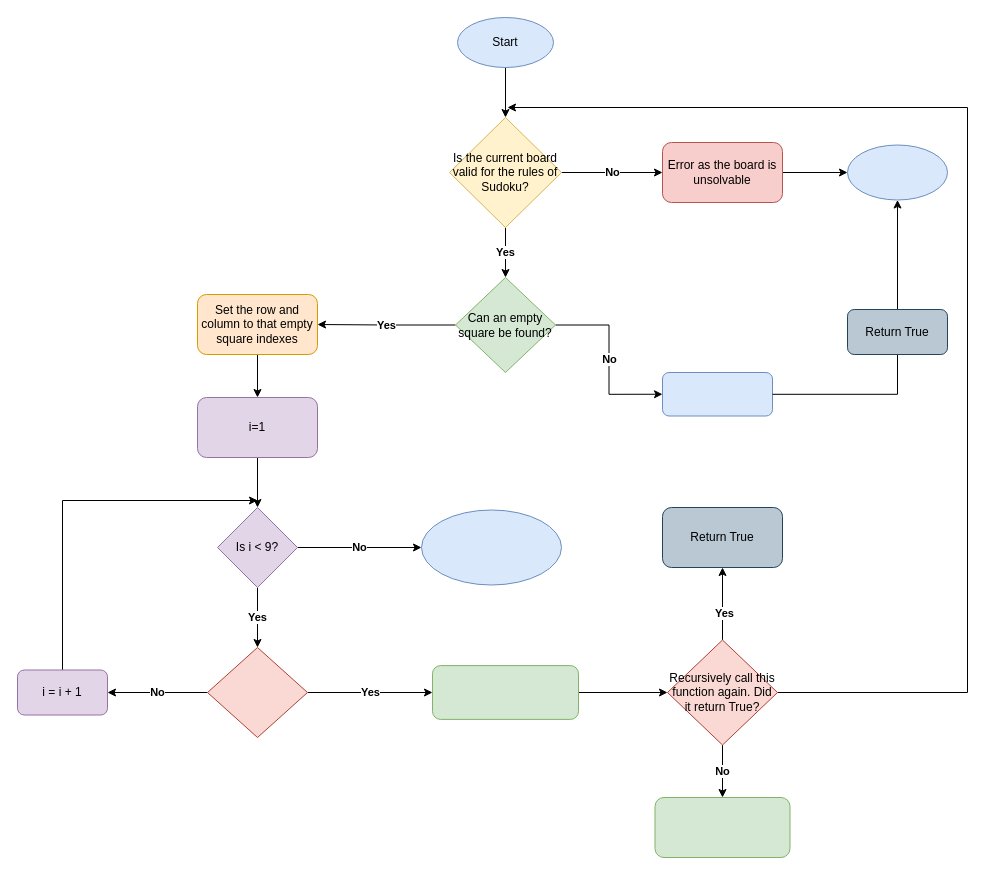
The diagram is 993 pixels wide and 875 high, and some of its shapes have lost their labels. The centre of each missing label's shape, as x and y in pixels:
"Backtrack" by placing a 0 in the box with the index [row][column]: point (722, 827)
Finish: point (897, 172)
Is i valid in that row and column?: point (257, 692)
The solver has finished and the board is solved: point (717, 394)
This will never happen, it will either place the number or backtrack: point (491, 547)
Update the board variable to have i in the 2D list with the index [row][column]: point (505, 692)
